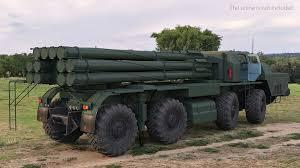MIL_SAM_TEL: (24, 47, 290, 156)
